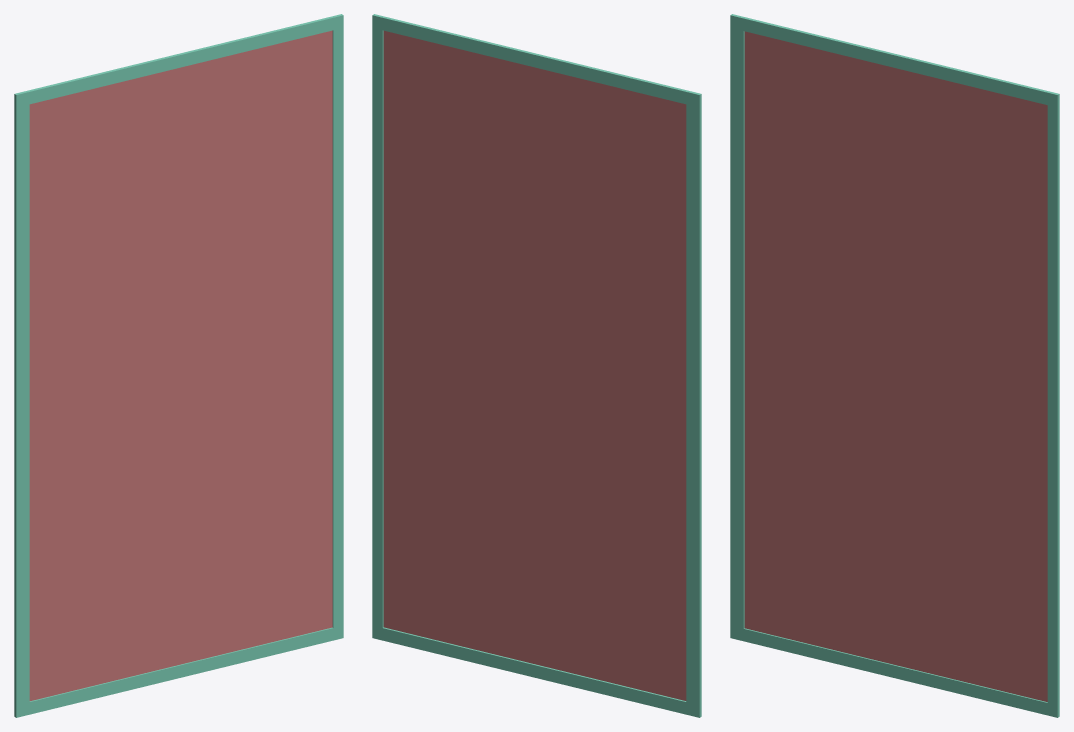
File: Window.fbx
3 views of the same model, side by side, from view 1: azimuth 30°, elevation 25°; view 2: azimuth 150°, elevation 25°; view 3: azimuth 330°, elevation 25° (orthographic).
Parts seen in each view (by area): view 1: Window; view 2: Window; view 3: Window.
Part boxes in pixels (x1,y1,x2,y2): Window: (14, 14, 343, 717); Window: (372, 14, 701, 717); Window: (730, 14, 1059, 717).
Size of the model in its own units: 110 by 200 by 1.03.
